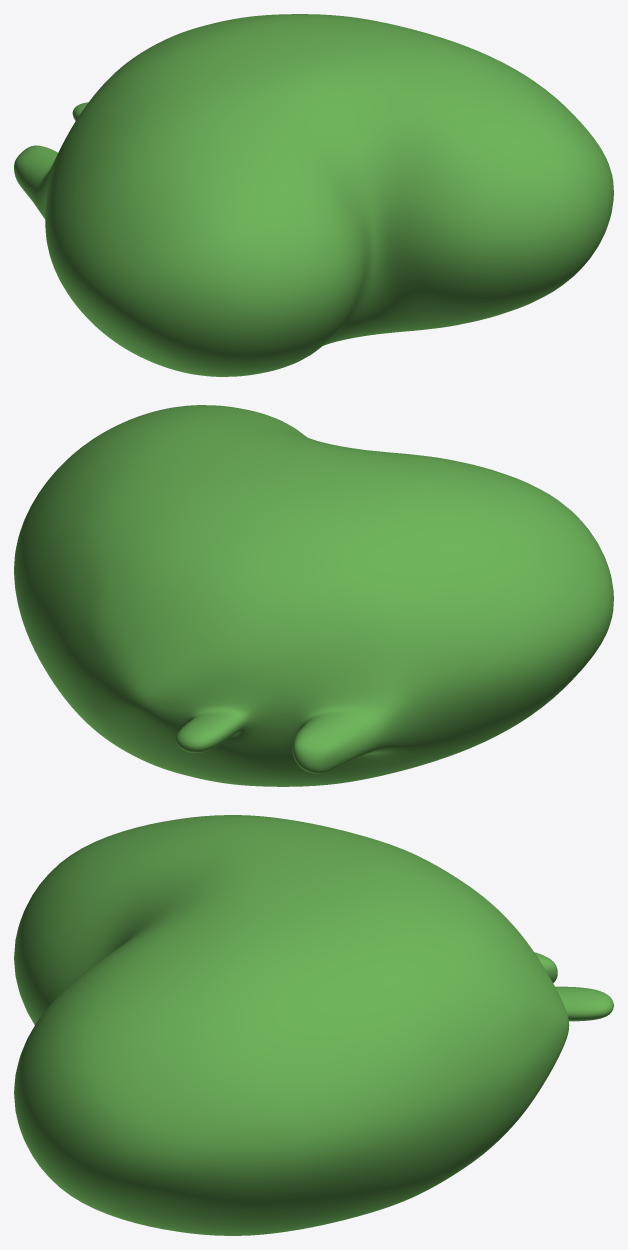
The picture shows the model from 3 angles, top to bottom: view 1: azimuth 30°, elevation 25°; view 2: azimuth 150°, elevation 25°; view 3: azimuth 270°, elevation 25°; orthographic projection. The views are drawn at different scales.
Parts seen in each view (by area): view 1: Cube; view 2: Cube; view 3: Cube.
Part boxes in pixels (x1,y1,x2,y2): Cube: (14,14,613,376); Cube: (14,405,613,786); Cube: (14,815,613,1235).
Bounding box in the file's own units: 2.12 × 1.09 × 1.95.
